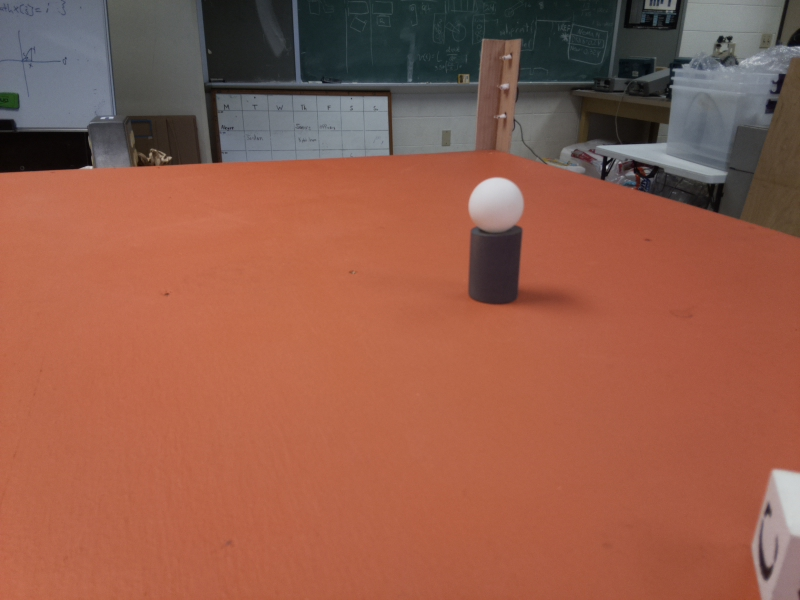corner: (471, 37, 523, 153)
obstacle: (467, 178, 533, 303)
